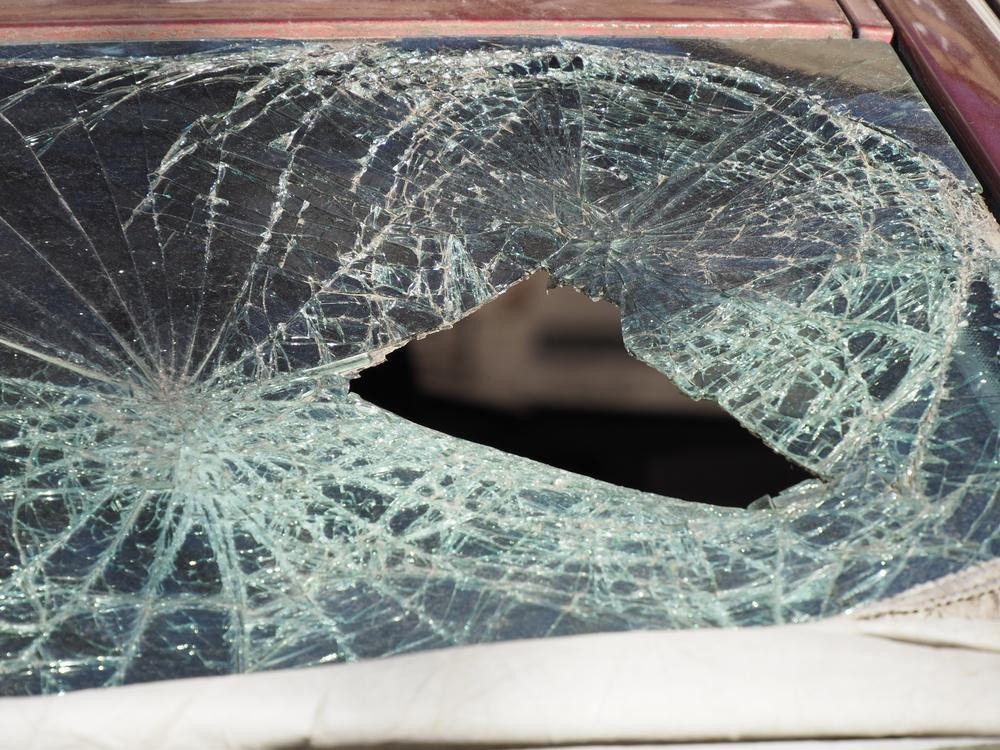glass shatter: (0, 35, 1000, 698)
